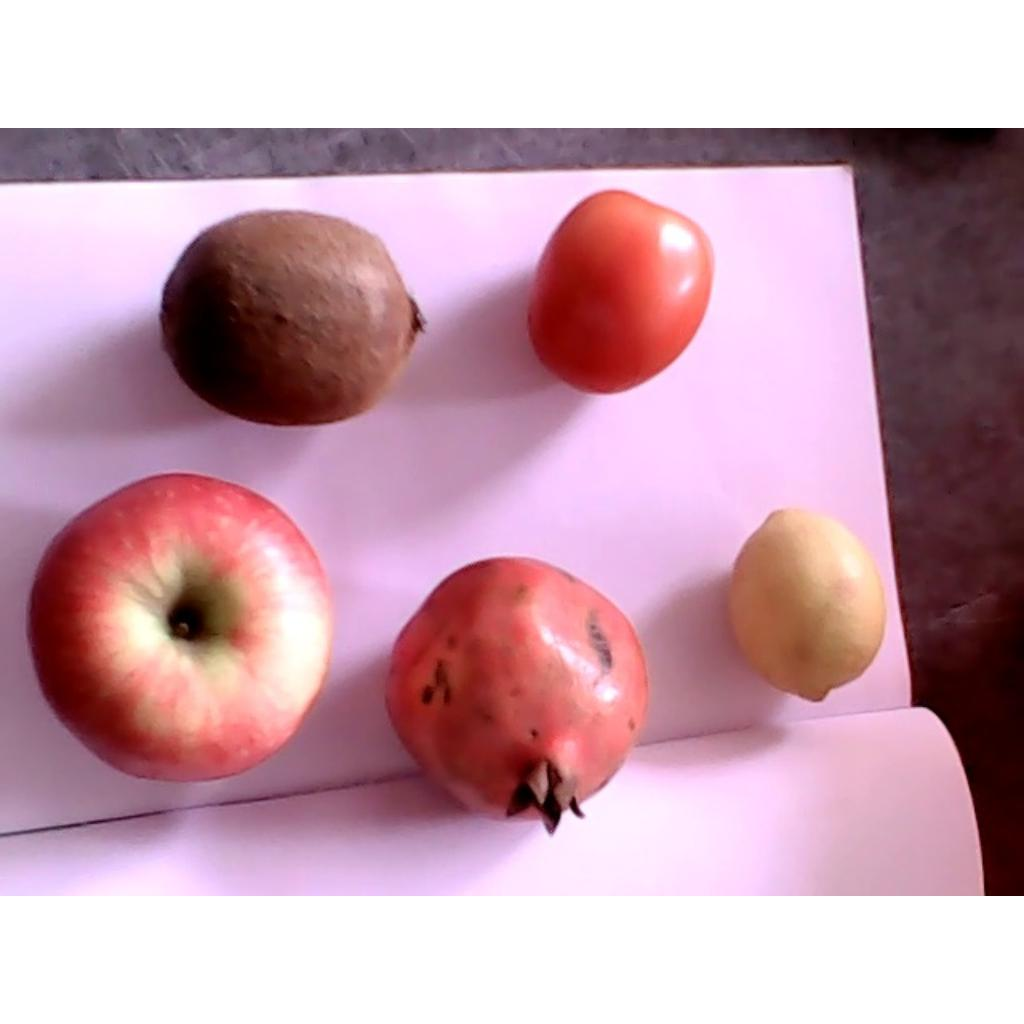apple: (28, 474, 333, 779)
kiwi: (162, 209, 428, 427)
lemon: (731, 512, 885, 702)
pomegranate: (384, 556, 649, 836)
tomato: (529, 190, 711, 393)
